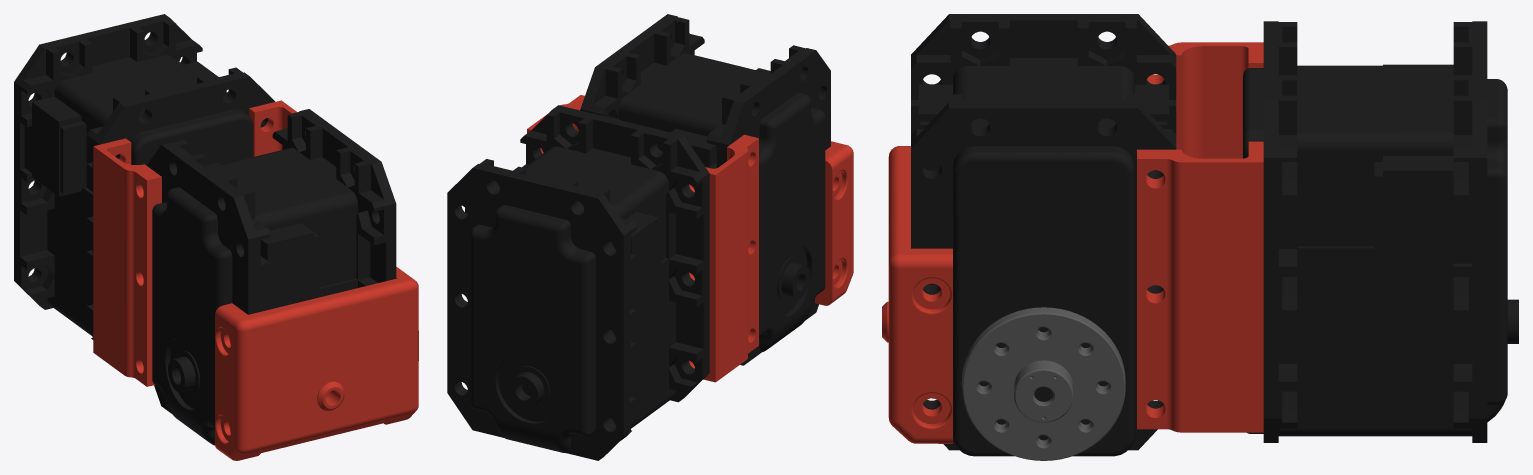
File: Right Ankle.dae
The picture shows the model from 3 angles, left to right: view 1: azimuth 30°, elevation 25°; view 2: azimuth 150°, elevation 25°; view 3: azimuth 270°, elevation 25°; orthographic projection. The views are drawn at different scales.
Parts seen in each view (by area): view 1: Body1_Paint_-_Metallic_(Black) (×2), Body1_Paint_-_Metallic_(Red) (×3); view 2: Body1_Paint_-_Metallic_(Black) (×2), Body1_Paint_-_Metallic_(Red) (×2); view 3: Body1_Paint_-_Metallic_(Black) (×2), Body1_Paint_-_Metallic_(Red) (×3), Body1_Paint_-_Metallic_(Dark_Grey).
Boxes of the visible parts, x1=… form: Body1_Paint_-_Metallic_(Black) (×2): x1=14, y1=14, x2=396, y2=445; Body1_Paint_-_Metallic_(Red) (×3): x1=93, y1=100, x2=418, y2=460; Body1_Paint_-_Metallic_(Black) (×2): x1=447, y1=14, x2=830, y2=460; Body1_Paint_-_Metallic_(Red) (×2): x1=689, y1=134, x2=853, y2=382; Body1_Paint_-_Metallic_(Black) (×2): x1=911, y1=14, x2=1518, y2=456; Body1_Paint_-_Metallic_(Red) (×3): x1=882, y1=42, x2=1263, y2=443; Body1_Paint_-_Metallic_(Dark_Grey): x1=961, y1=307, x2=1125, y2=460.
Size of the model in its own units: 0.0428 by 0.0854 by 0.0506.
